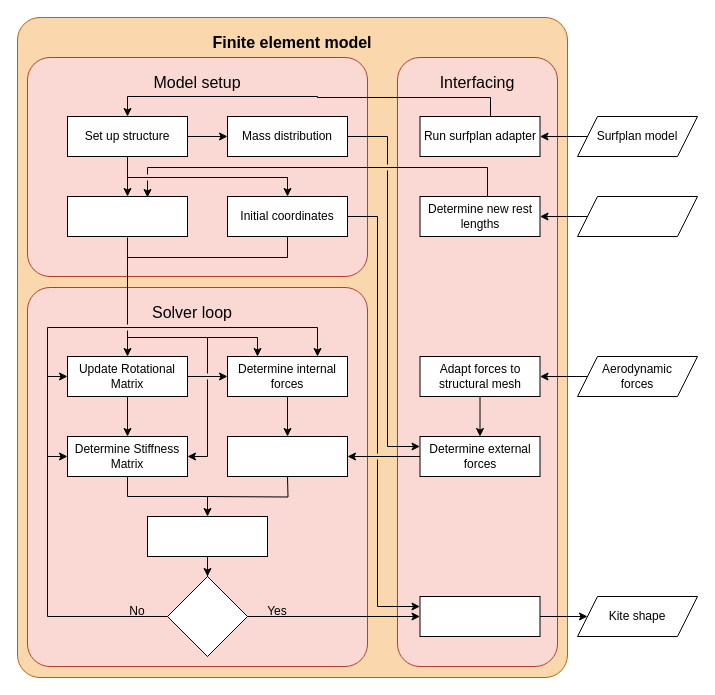
This 715x695 diagram has some shape labels left out. Each missing label, with the box of its shape:
Calculate final coordinates: (419, 596, 540, 636)
Calculate residual forces: (226, 436, 348, 476)
Converged: (166, 576, 248, 656)
Element definition: (66, 196, 188, 236)
Steering and power input: (576, 196, 698, 236)
Update displacement: (146, 516, 268, 556)
